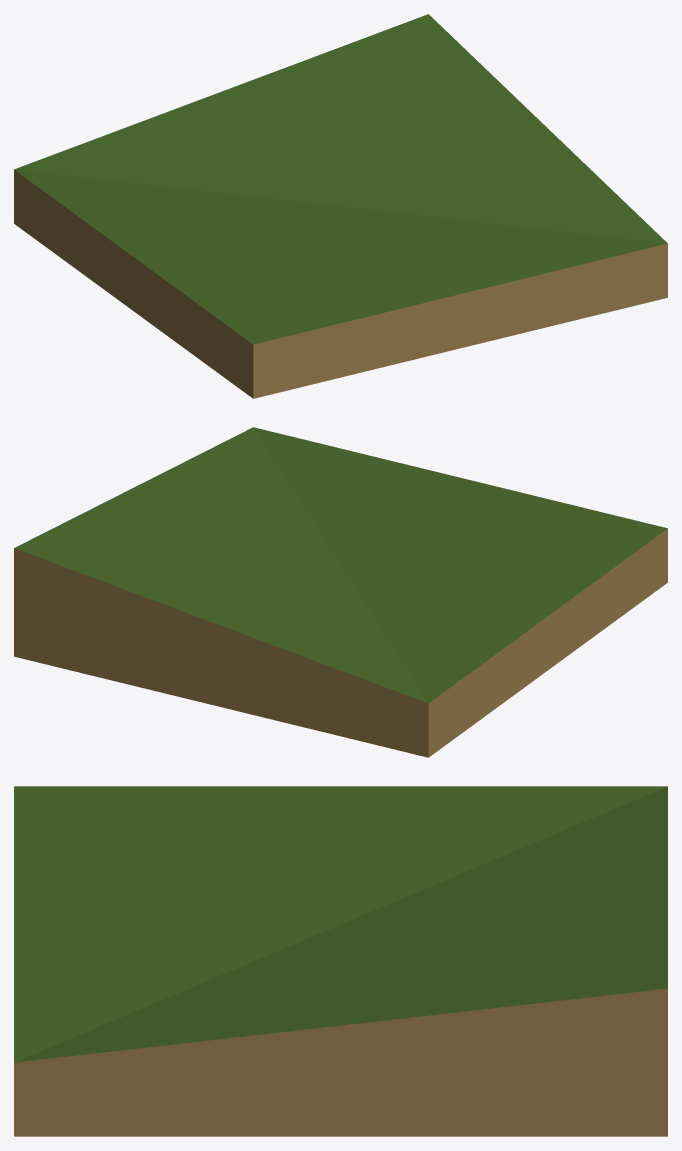
File: Terrain_Tile_Grass_Dirt_Corner_Ramp_02.fbx
The picture shows the model from 3 angles, top to bottom: view 1: azimuth 30°, elevation 25°; view 2: azimuth 150°, elevation 25°; view 3: azimuth 270°, elevation 25°; orthographic projection. The views are drawn at different scales.
Visible parts, largest first — view 1: Terrain_Tile_Grass_Dirt_Corner_Ramp_02; view 2: Terrain_Tile_Grass_Dirt_Corner_Ramp_02; view 3: Terrain_Tile_Grass_Dirt_Corner_Ramp_02.
Boxes of the visible parts, left/top/right/bottom form: Terrain_Tile_Grass_Dirt_Corner_Ramp_02: left=14, top=14, right=667, bottom=398; Terrain_Tile_Grass_Dirt_Corner_Ramp_02: left=14, top=427, right=667, bottom=757; Terrain_Tile_Grass_Dirt_Corner_Ramp_02: left=14, top=786, right=667, bottom=1136.
Bounding box in the file's own units: 126 × 31.5 × 126.
